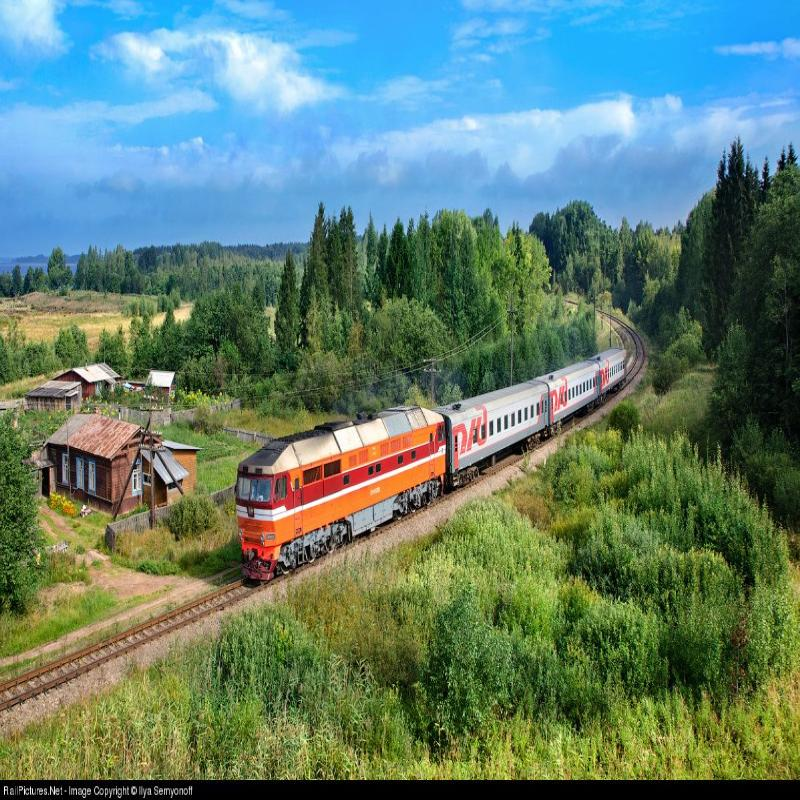train: (225, 396, 458, 585), (445, 363, 553, 508), (550, 335, 627, 427)
